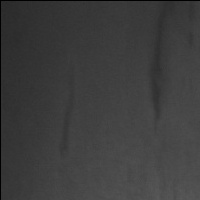inclusion: (144, 6, 171, 132), (52, 83, 79, 161)
